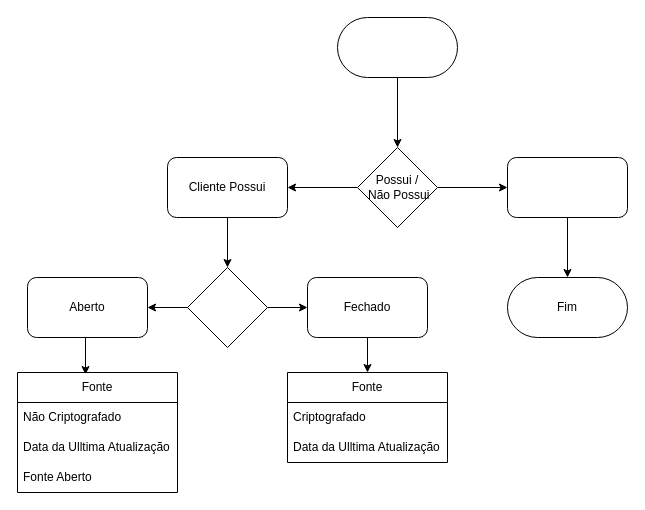
The diagram is 645 pixels wide and 510 high, and some of its shapes have lost their labels. The centre of each missing label's shape, as x and y in pixels:
Aberto / Fechado: point (227, 307)
Cliente Não Possui: point (567, 187)
Consulta: point (397, 47)
